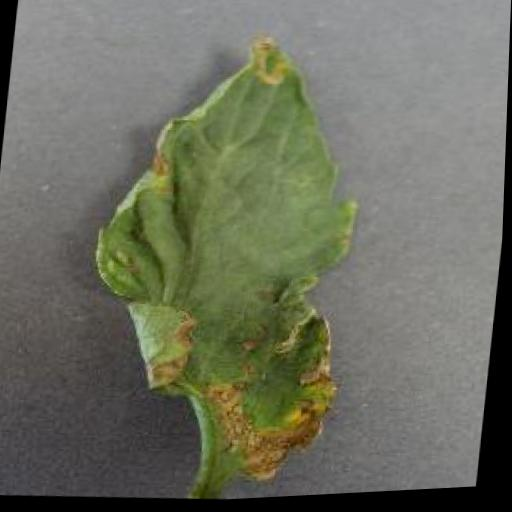Bacterial Spot: (70, 23, 380, 503)
